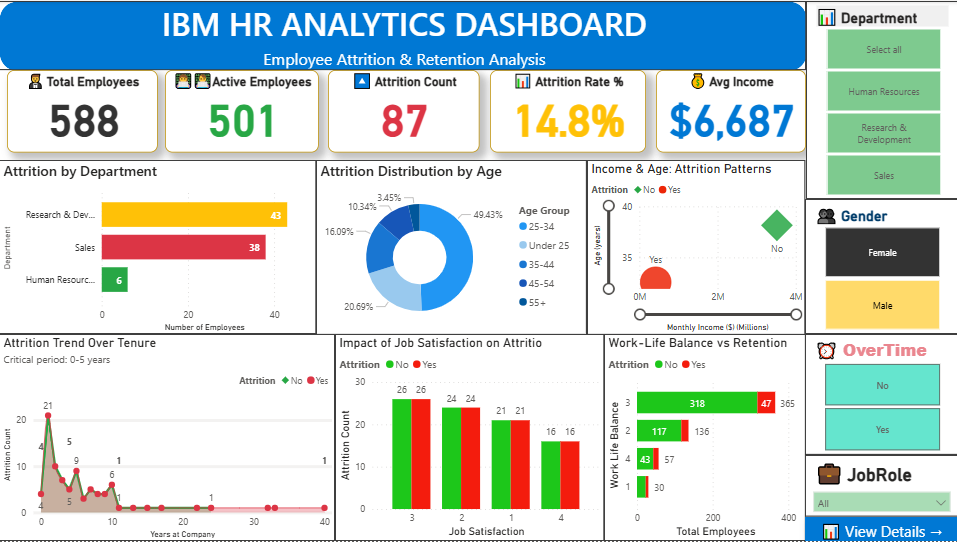

The page's visual inventory and layout, read from the dashboard file:
{"tool":"powerbi","page":{"name":"Dashboard","canvas":[1280,720],"ordinal":0},"visuals":[{"type":"card","title":"🤵 Total Employees","fields":{"Values":["Employee Data.Total Employees"]},"box":[10,91.4,201.4,110],"z":0},{"type":"card","title":"👩💻👨💻Active Employees","fields":{"Values":["Employee Data.Active Employees"]},"box":[221.4,92.1,205,110],"z":1000},{"type":"card","title":"🔼 Attrition Count","fields":{"Values":["Employee Data.Attrition Count"]},"box":[438.6,92.1,202.1,110],"z":2000},{"type":"card","title":"📊 Attrition Rate %","fields":{"Values":["Employee Data.Attrition Rate %"]},"box":[654.4,92.1,207.6,110],"z":3000},{"type":"card","title":"💰 Avg Income","fields":{"Values":["Employee Data.Avg Monthly Income"]},"box":[875.7,91.4,200,110],"z":4000},{"type":"clusteredBarChart","title":"Attrition by Department","fields":{"Category":["Employee Data.Department"],"Y":["Employee Data.Attrition Count"]},"box":[0,212,422.7,232],"z":5000},{"type":"donutChart","title":"Attrition Distribution by Age","fields":{"Category":["Employee Data.Age Group"],"Y":["Employee Data.Attrition Count"]},"box":[422.9,211.4,361.4,232.9],"z":6000},{"type":"areaChart","title":"Attrition Trend Over Tenure","fields":{"Category":["Employee Data.Years at Company"],"Y":["Employee Data.Attrition Count"],"Series":["Employee Data.Attrition"]},"box":[0,444,448,276],"z":7000},{"type":"scatterChart","title":"Income & Age: Attrition Patterns","fields":{"X":["Sum(Employee Data.Monthly Income ($))"],"Y":["Avg(Employee Data.Age)"],"Series":["Employee Data.Attrition"]},"box":[784.3,211.4,291.4,232.9],"z":8000},{"type":"shape","box":[0,0,1076,92],"z":9000},{"type":"clusteredColumnChart","title":"Impact of Job Satisfaction on Attritio","fields":{"Category":["Employee Data.Job Satisfaction"],"Y":["Employee Data.Attrition Count"],"Series":["Employee Data.Attrition"]},"box":[448.6,444.3,358.6,275.7],"z":10000},{"type":"barChart","title":"Work-Life Balance vs Retention","fields":{"Category":["Employee Data.Work Life Balance"],"Y":["Employee Data.Total Employees"],"Series":["Employee Data.Attrition"]},"box":[807.1,444.3,268.6,275.7],"z":11000},{"type":"slicer","fields":{"Values":["Employee Data.Department"]},"box":[1075.7,0,204.3,264.3],"z":12000},{"type":"textbox","title":"IBM HR ANALYTICS DASHBOARD","box":[81.1,0,918.4,92.1],"z":13000},{"type":"slicer","fields":{"Values":["Employee Data.Gender"]},"box":[1075.1,264,204.9,180.1],"z":14000},{"type":"slicer","fields":{"Values":["Employee Data.OverTime"]},"box":[1075.1,444.1,204.9,160.9],"z":15000},{"type":"slicer","fields":{"Values":["Employee Data.JobRole"]},"box":[1075.1,604.9,204.9,82.5],"z":16000},{"type":"actionButton","title":"📊 View Details →","box":[1075.1,687.4,204.9,33],"z":17000}]}

Visuals, with their boxes in screenshot pixels (x1, y1, x2, y2), scaled from the page's 1280x720 canvas onto the 957x542 screenshot:
"🤵 Total Employees" card: rect(7, 69, 158, 152)
"👩💻👨💻Active Employees" card: rect(166, 69, 319, 152)
"🔼 Attrition Count" card: rect(328, 69, 479, 152)
"📊 Attrition Rate %" card: rect(489, 69, 644, 152)
"💰 Avg Income" card: rect(655, 69, 804, 152)
"Attrition by Department" clusteredBarChart: rect(0, 160, 316, 334)
"Attrition Distribution by Age" donutChart: rect(316, 159, 586, 334)
"Attrition Trend Over Tenure" areaChart: rect(0, 334, 335, 541)
"Income & Age: Attrition Patterns" scatterChart: rect(586, 159, 804, 334)
shape: rect(0, 0, 804, 69)
"Impact of Job Satisfaction on Attritio" clusteredColumnChart: rect(335, 334, 604, 541)
"Work-Life Balance vs Retention" barChart: rect(603, 334, 804, 541)
slicer - Employee Data.Department: rect(804, 0, 956, 199)
"IBM HR ANALYTICS DASHBOARD" textbox: rect(61, 0, 747, 69)
slicer - Employee Data.Gender: rect(804, 199, 956, 334)
slicer - Employee Data.OverTime: rect(804, 334, 956, 455)
slicer - Employee Data.JobRole: rect(804, 455, 956, 517)
"📊 View Details →" actionButton: rect(804, 517, 956, 541)
